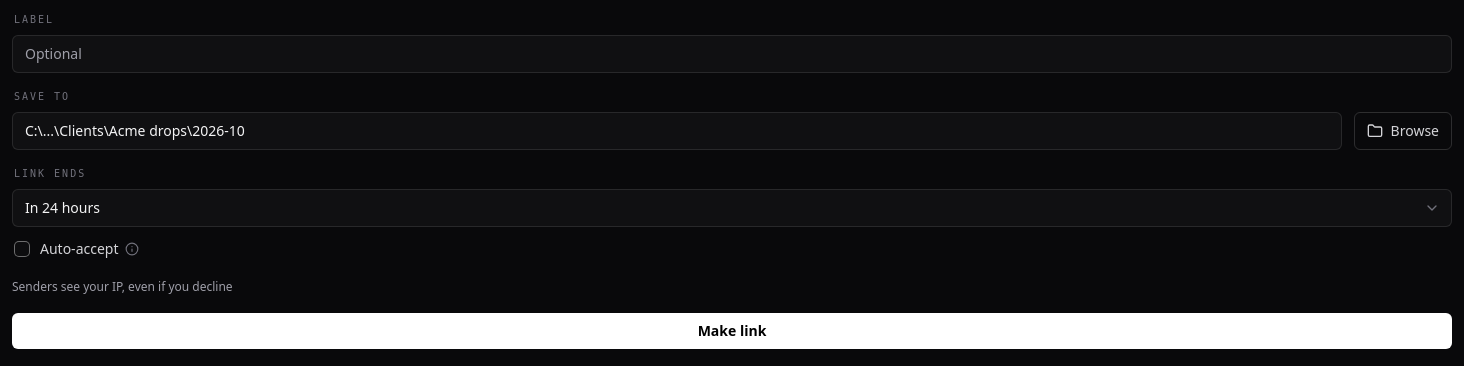
the layout (D-136) › SAVE TO cuts a long folder in the middle while the field is at rest, and edits the whole path (QA-H6 L-2)
The width and height of the screenshot is (1464, 366).
// Focused: the whole path, as typed, and nothing laid over it.
Step 1. Click the field labelled "Save to" → (677, 131), box [12,112,1342,150]
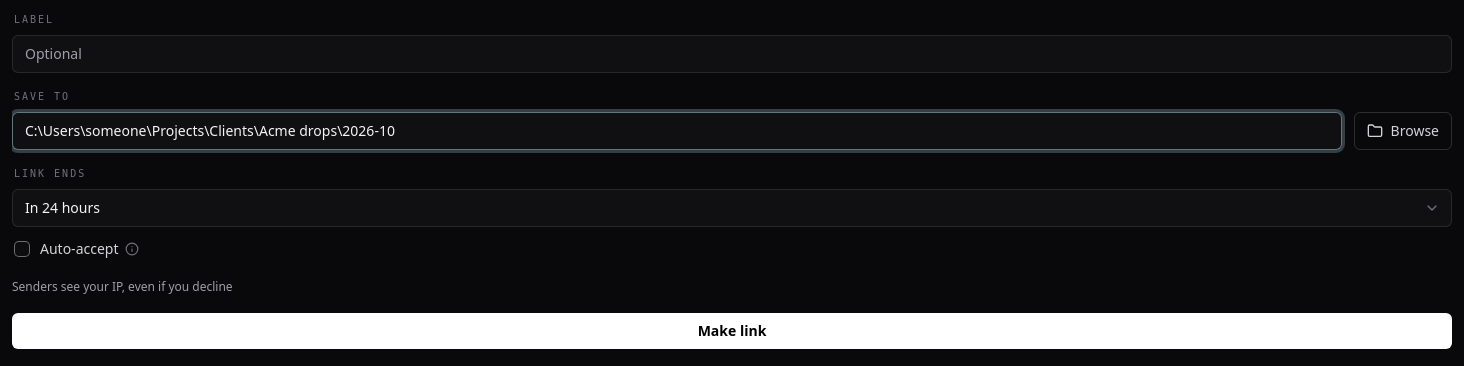
Check: the text "C:\\...\\Clients\\Acme drops\\2026-10" is gone
// At rest again: the middle cut is back.
Step 2. Press Tab
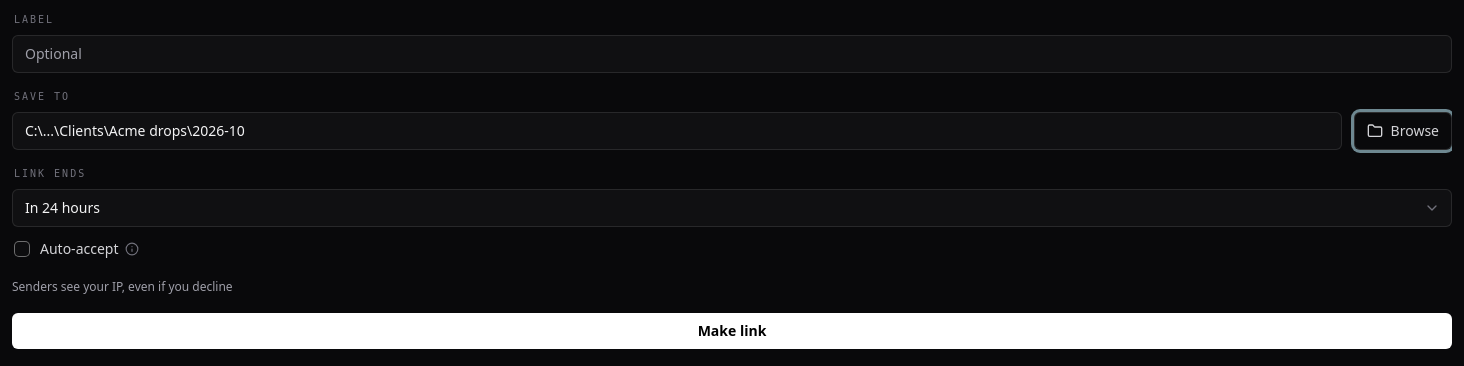
Check: the text "C:\\...\\Clients\\Acme drops\\2026-10" is shown, box [25,121,245,140]
